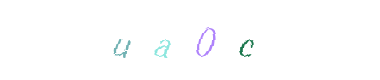0: (166, 0, 246, 80)
A: (150, 0, 230, 80)
C: (205, 0, 285, 80)
U: (116, 0, 196, 80)
